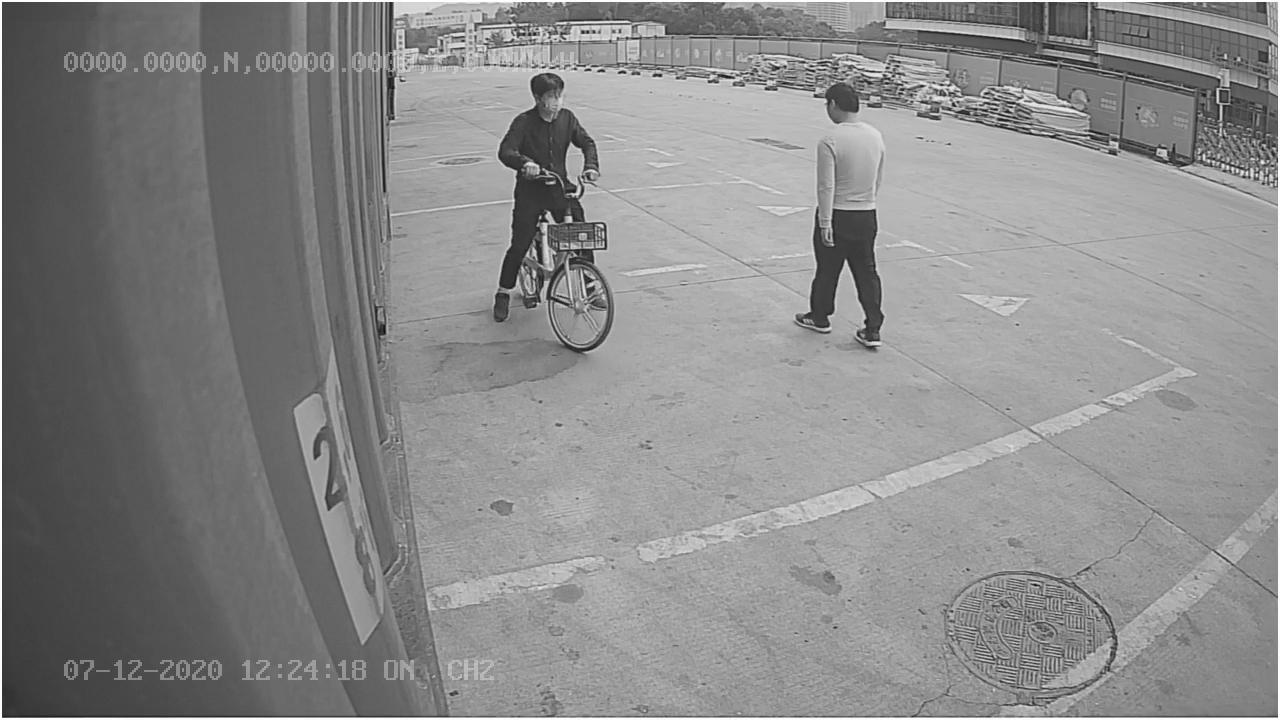person: (785, 80, 890, 352)
